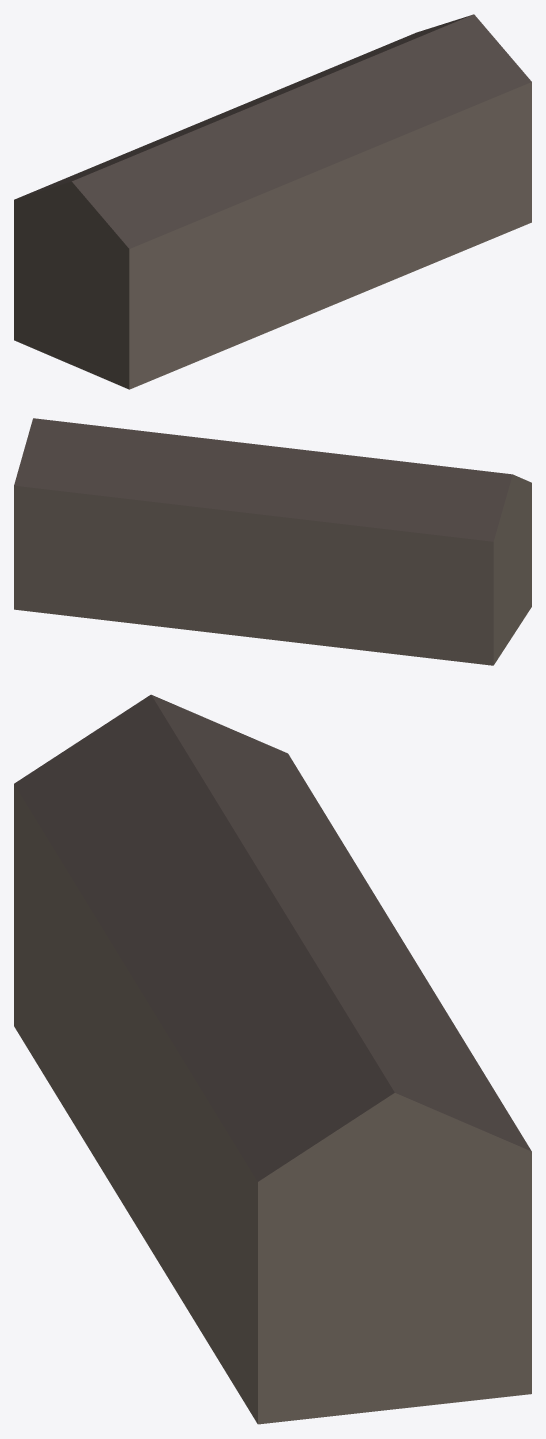
3 views of the same model, one above another, from view 1: azimuth 30°, elevation 25°; view 2: azimuth 150°, elevation 25°; view 3: azimuth 270°, elevation 25° (orthographic). The views are drawn at different scales.
Visible parts, largest first — view 1: HP-w859424209; view 2: HP-w859424209; view 3: HP-w859424209.
Boxes of the visible parts, bbox=[...] form: HP-w859424209: bbox=[14, 14, 531, 389]; HP-w859424209: bbox=[14, 418, 531, 665]; HP-w859424209: bbox=[14, 694, 531, 1424].
Bounding box in the file's own units: 34.12 × 11.75 × 17.43.
